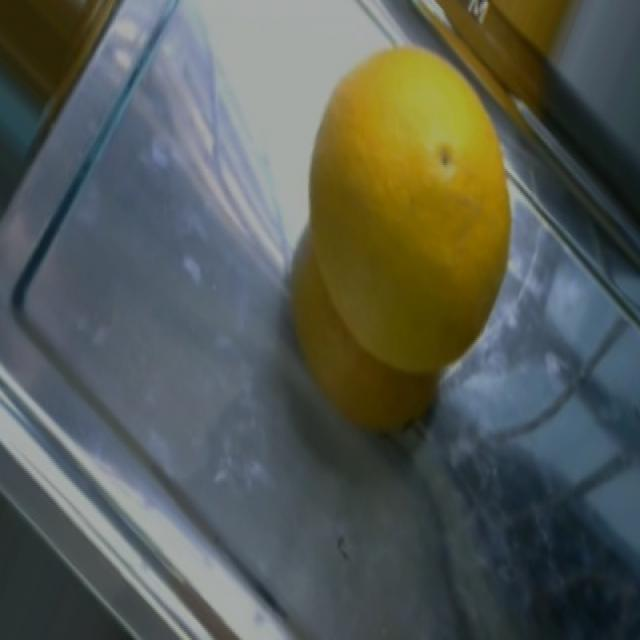Fruit: (267, 4, 532, 455), (462, 0, 618, 80)
